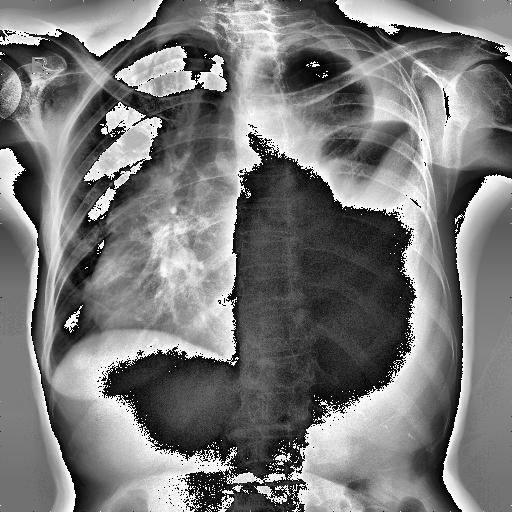1- Atelectasis: (77, 163, 240, 338)
10- Pleural effusion: (262, 33, 448, 373), (263, 38, 442, 364), (299, 130, 444, 355), (301, 29, 426, 137)
11- Pleural thickening: (134, 20, 238, 62)
12- Pneumothorax: (270, 42, 372, 159), (326, 120, 416, 200)
4- Consolidation: (77, 163, 240, 338)
7- Lung Opacity: (323, 125, 415, 204)
